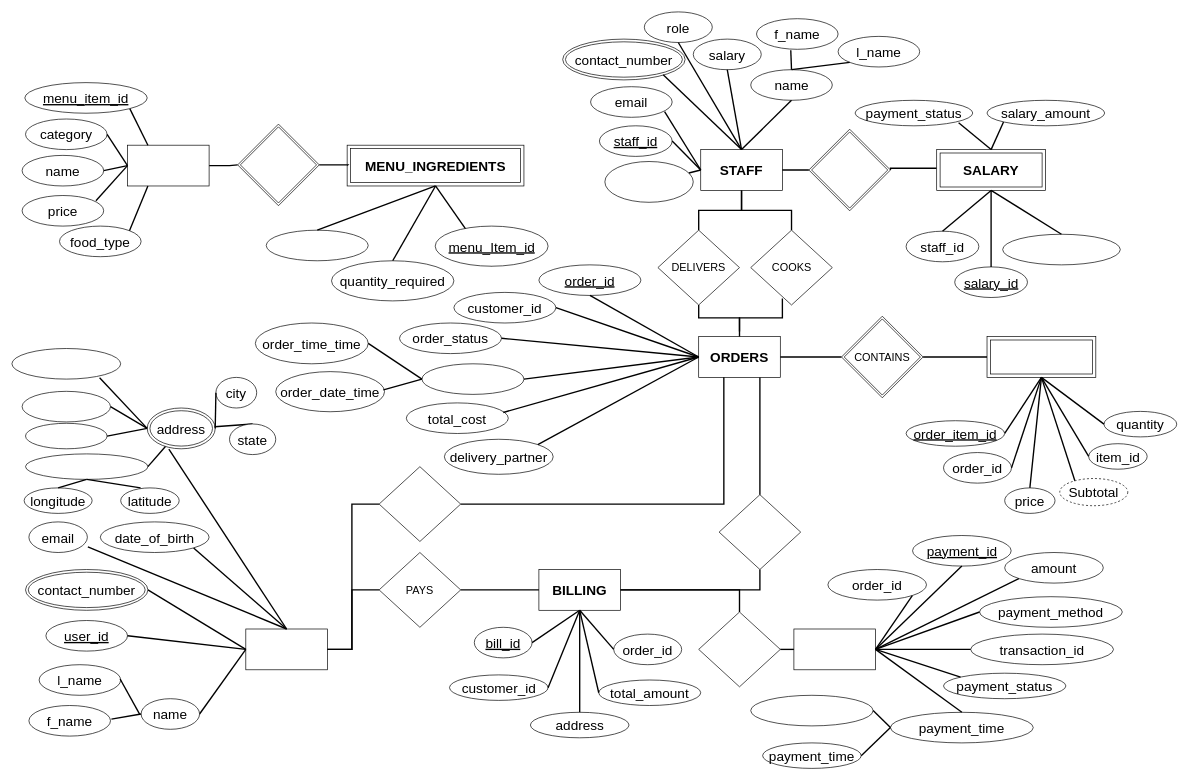
This 1189x781 diagram has some shape labels left out. The shapes that lost their labels are listed below. From the top down, each one's centre as x and y in pixels, then its label:
At (x=168, y=165): "MENU".
At (x=278, y=164): "HAS_ RECIPE".
At (x=648, y=181): "hiring_date".
At (x=849, y=170): "TO BE PAID".
At (x=317, y=245): "ingredient_id".
At (x=1061, y=249): "salary amount".
At (x=66, y=363): "flat/house_no".
At (x=1041, y=356): "ORDER_ITEMS".
At (x=472, y=378): "order_time".
At (x=66, y=406): "soc_name".
At (x=66, y=436): "street/area".
At (x=86, y=466): "geo_coordinates".
At (x=419, y=503): "PLACES".
At (x=759, y=532): "GENERATE".
At (x=286, y=649): "USER".
At (x=739, y=649): "RECEIVES".
At (x=834, y=649): "PAYMENTS".
At (x=811, y=710): "payment_date".
